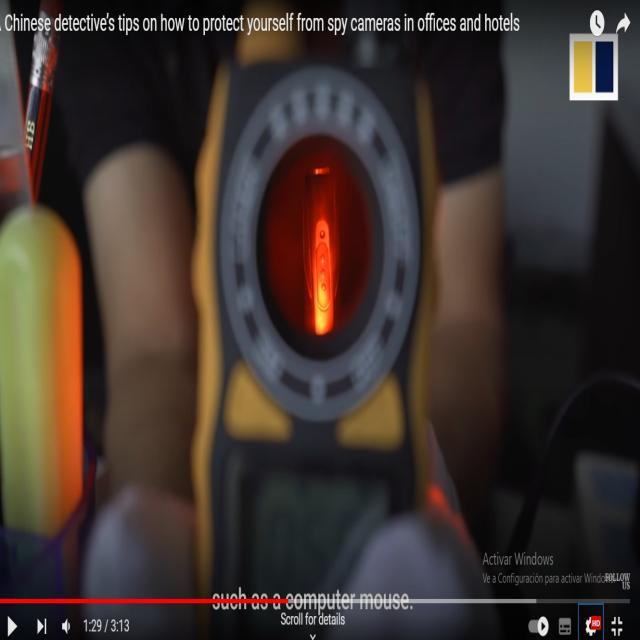hidden camera: (319, 228, 327, 241)
